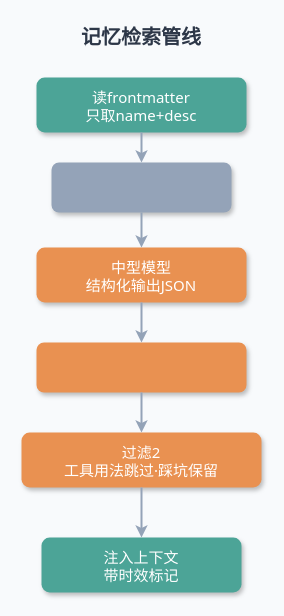
The diagram is 284 pixels wide and 616 high, and some of its shapes have lost their labels. Here are the shapes that lost their labels. From the top down, the centre of each, then its label:
At point (142, 188): "候选清单+Query".
At point (142, 368): "过滤1 已注入不重复".
